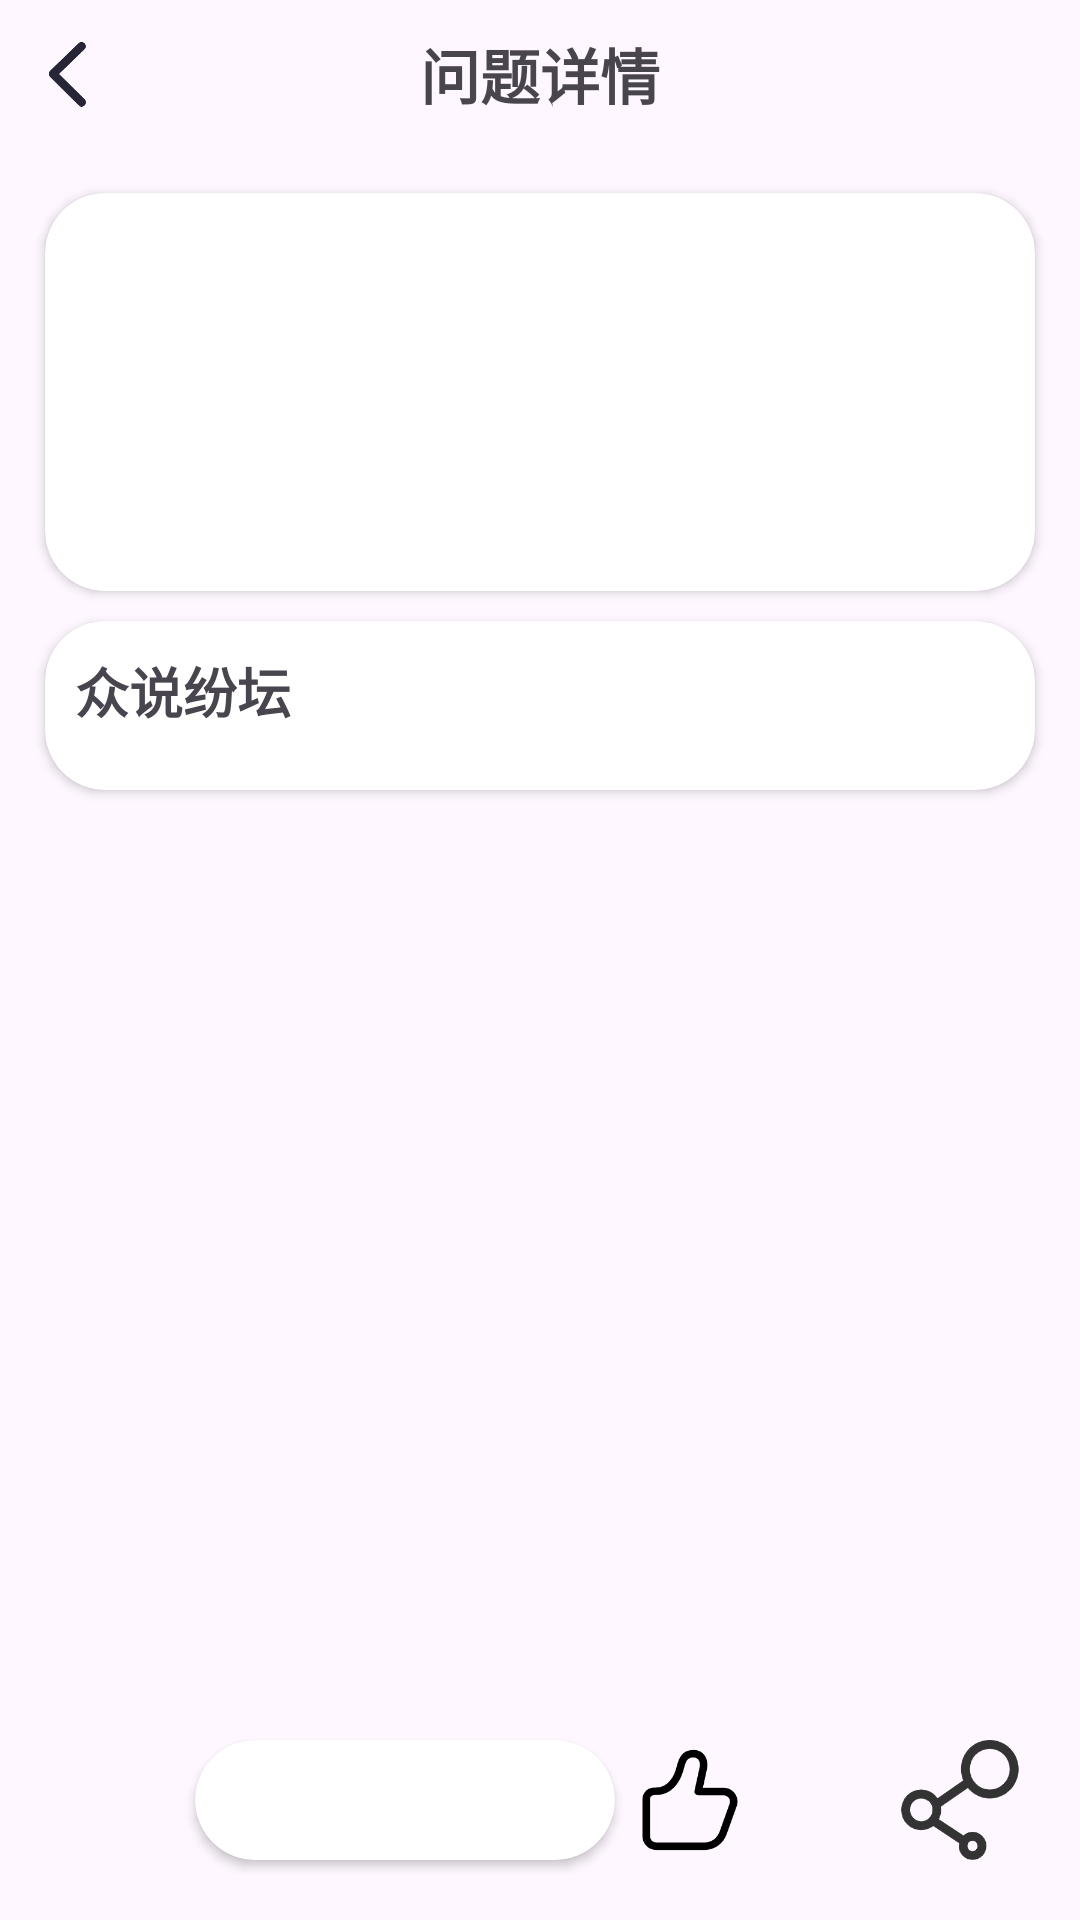

Icon bounding boxes for this 1080 × 1920 phone screenshot, format (x1, y1, x2, y2):
arrow left: (49, 42, 86, 107)
like: (642, 1750, 738, 1850)
share: (901, 1740, 1019, 1860)
